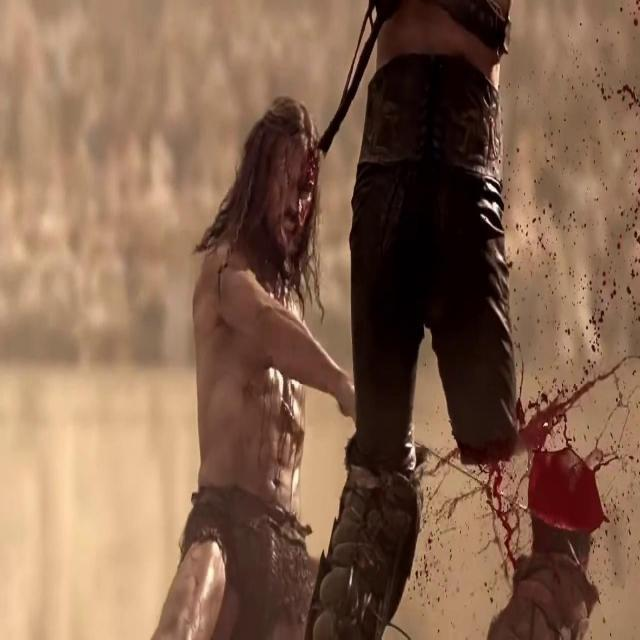flood: (439, 382, 632, 550), (256, 361, 318, 484), (268, 137, 327, 255)
